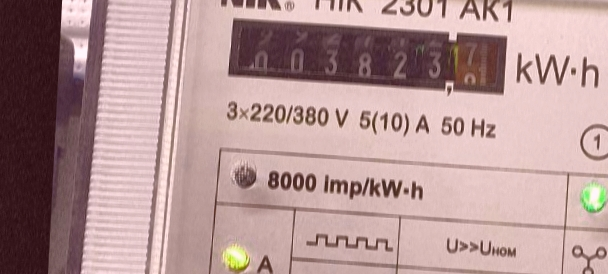0: (281, 44, 303, 72), (247, 46, 267, 70)
2: (386, 48, 407, 80)
3: (421, 48, 441, 79), (317, 45, 337, 75)
7: (459, 40, 476, 69)
8: (351, 49, 370, 78)
9: (251, 25, 270, 45)
screen: (217, 13, 508, 99)
